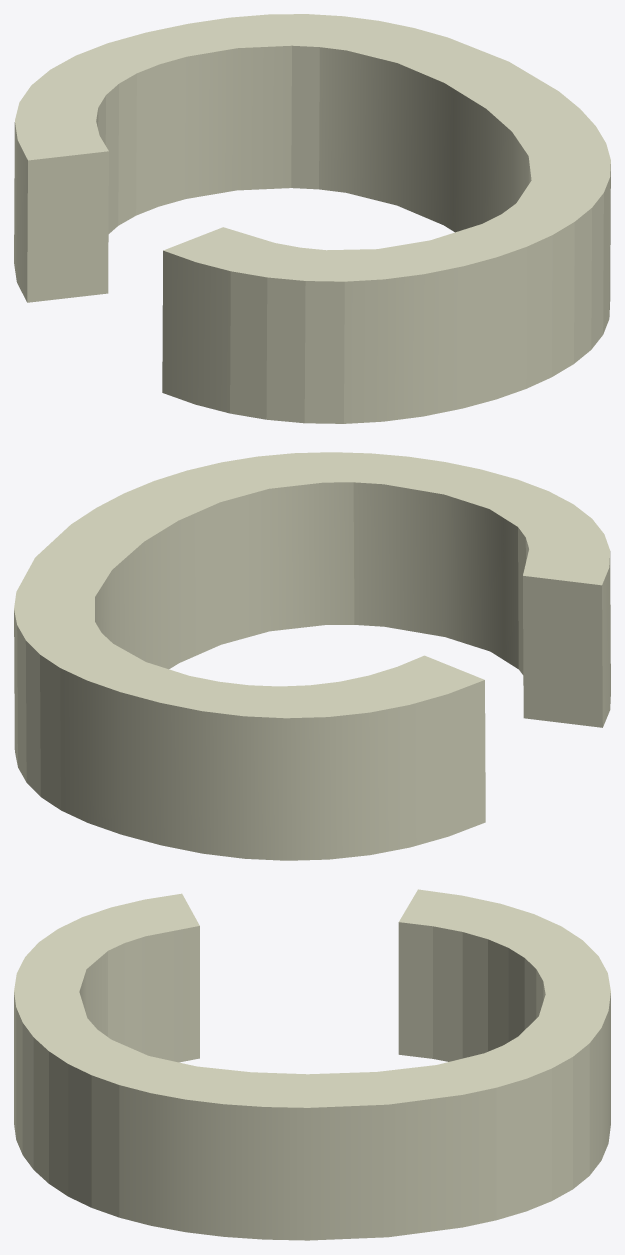
The model's file is original-171.obj.
3 views of the same model, one above another, from view 1: azimuth 30°, elevation 25°; view 2: azimuth 150°, elevation 25°; view 3: azimuth 270°, elevation 25° (orthographic). The views are drawn at different scales.
Parts seen in each view (by area): view 1: mesh287/mesh287-geometry#mesh287-geometry; view 2: mesh287/mesh287-geometry#mesh287-geometry; view 3: mesh287/mesh287-geometry#mesh287-geometry.
Boxes of the visible parts, x1,y1,x2,y2 form: mesh287/mesh287-geometry#mesh287-geometry: [14, 14, 610, 423]; mesh287/mesh287-geometry#mesh287-geometry: [14, 452, 610, 860]; mesh287/mesh287-geometry#mesh287-geometry: [14, 889, 610, 1240].
Bounding box in the file's own units: 0.0135 × 0.00396 × 0.0158.
